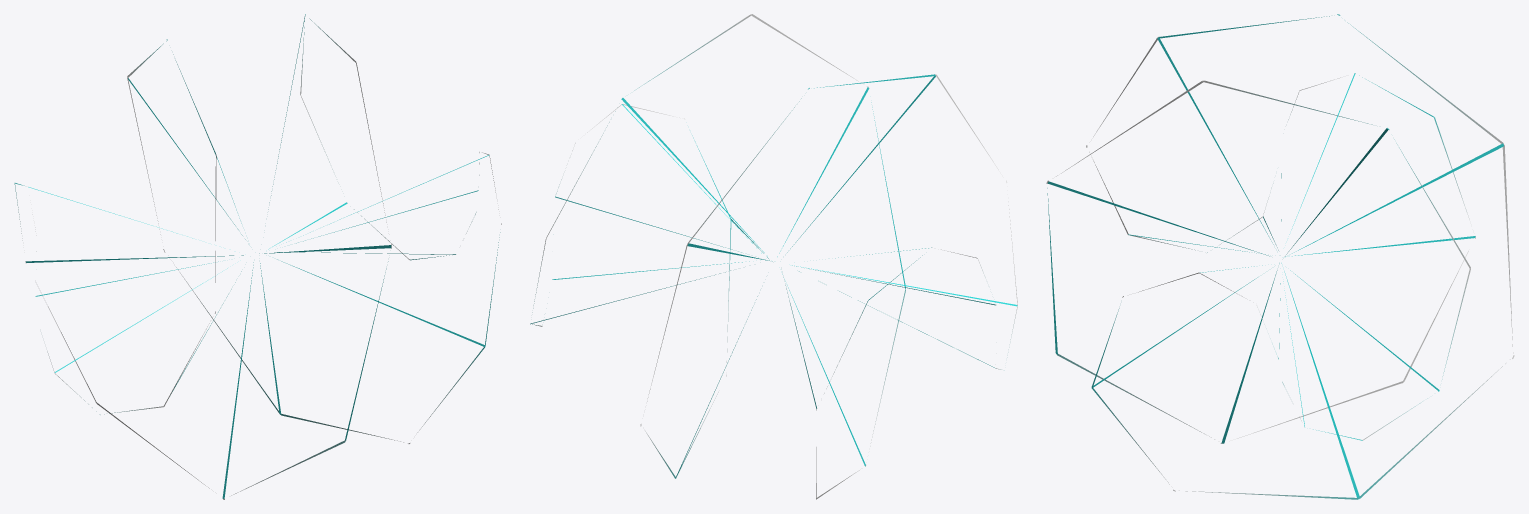
Rendered from SM_HoloSpline_Wireframe_Helix.fbx.
3 renders of one model, left to right at view 1: azimuth 30°, elevation 25°; view 2: azimuth 150°, elevation 25°; view 3: azimuth 270°, elevation 25°, orthographic. The views are drawn at different scales.
Parts seen in each view (by area): view 1: SM_HoloSpline_Wireframe_Helix; view 2: SM_HoloSpline_Wireframe_Helix; view 3: SM_HoloSpline_Wireframe_Helix.
Boxes of the visible parts, left/top/right/bottom form: SM_HoloSpline_Wireframe_Helix: left=14, top=14, right=501, bottom=499; SM_HoloSpline_Wireframe_Helix: left=530, top=14, right=1017, bottom=499; SM_HoloSpline_Wireframe_Helix: left=1046, top=14, right=1514, bottom=499.
Bounding box in the file's own units: 207 × 185 × 188.
